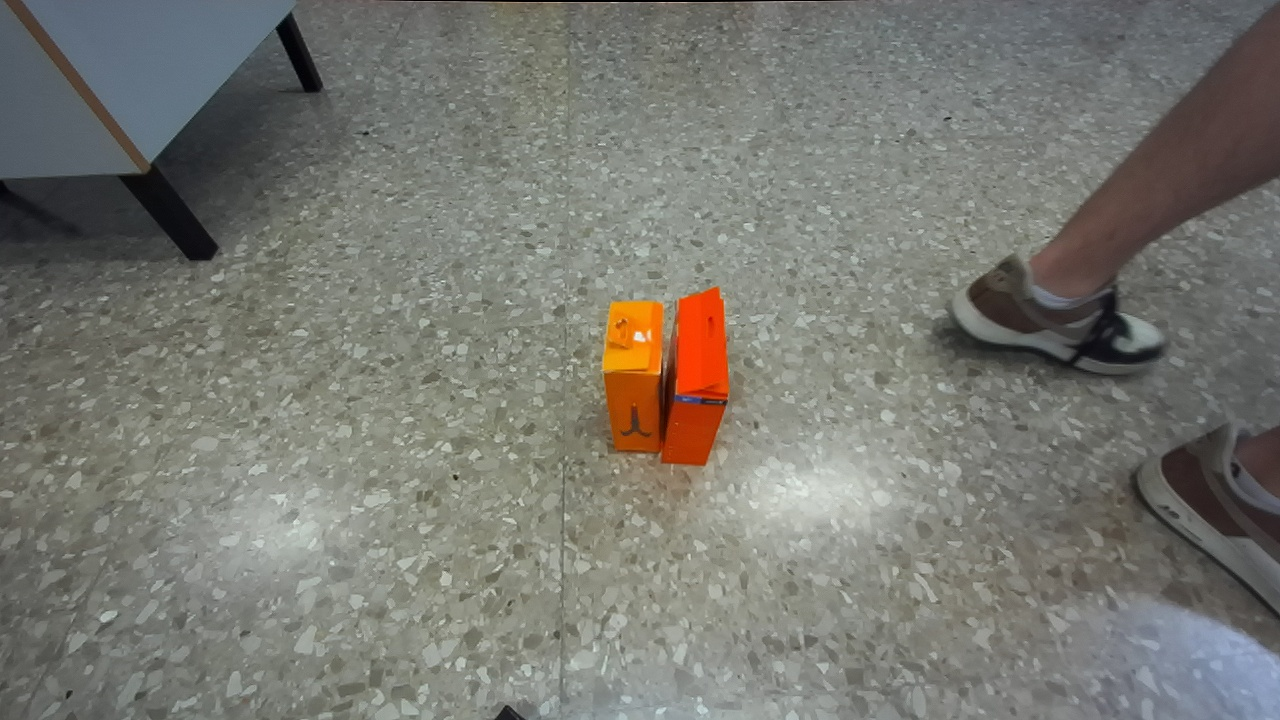caja_manguera: (662, 287, 729, 464)
caja_pcb: (601, 301, 662, 452)
